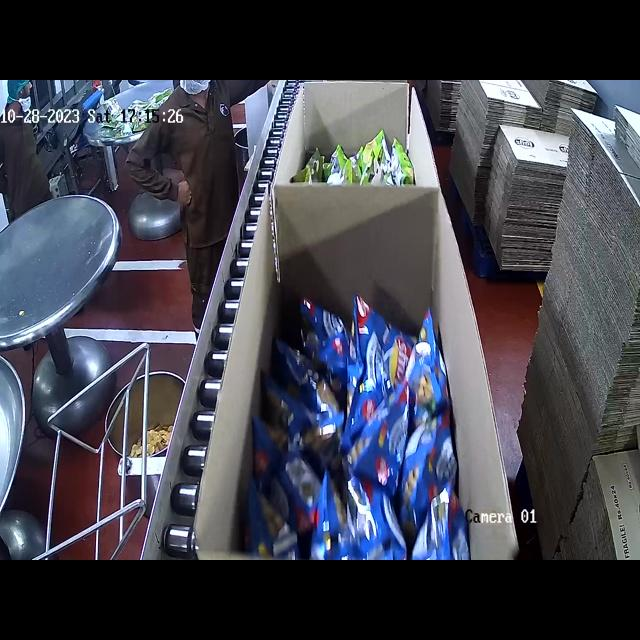paprika: (275, 297, 448, 560)
yogurt: (302, 129, 417, 193)
